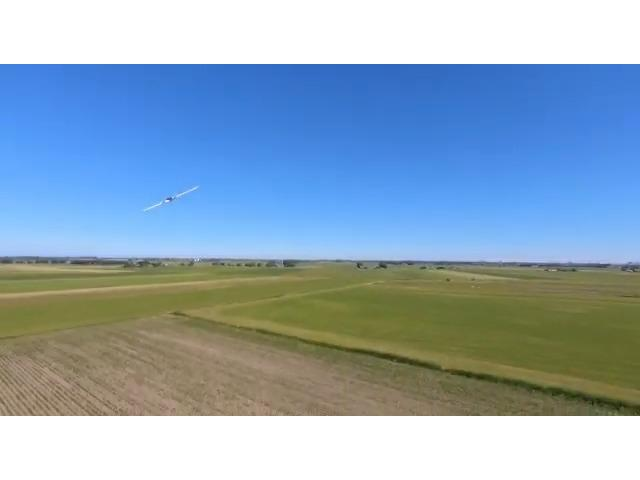Anti-Drone: (134, 178, 204, 222)
